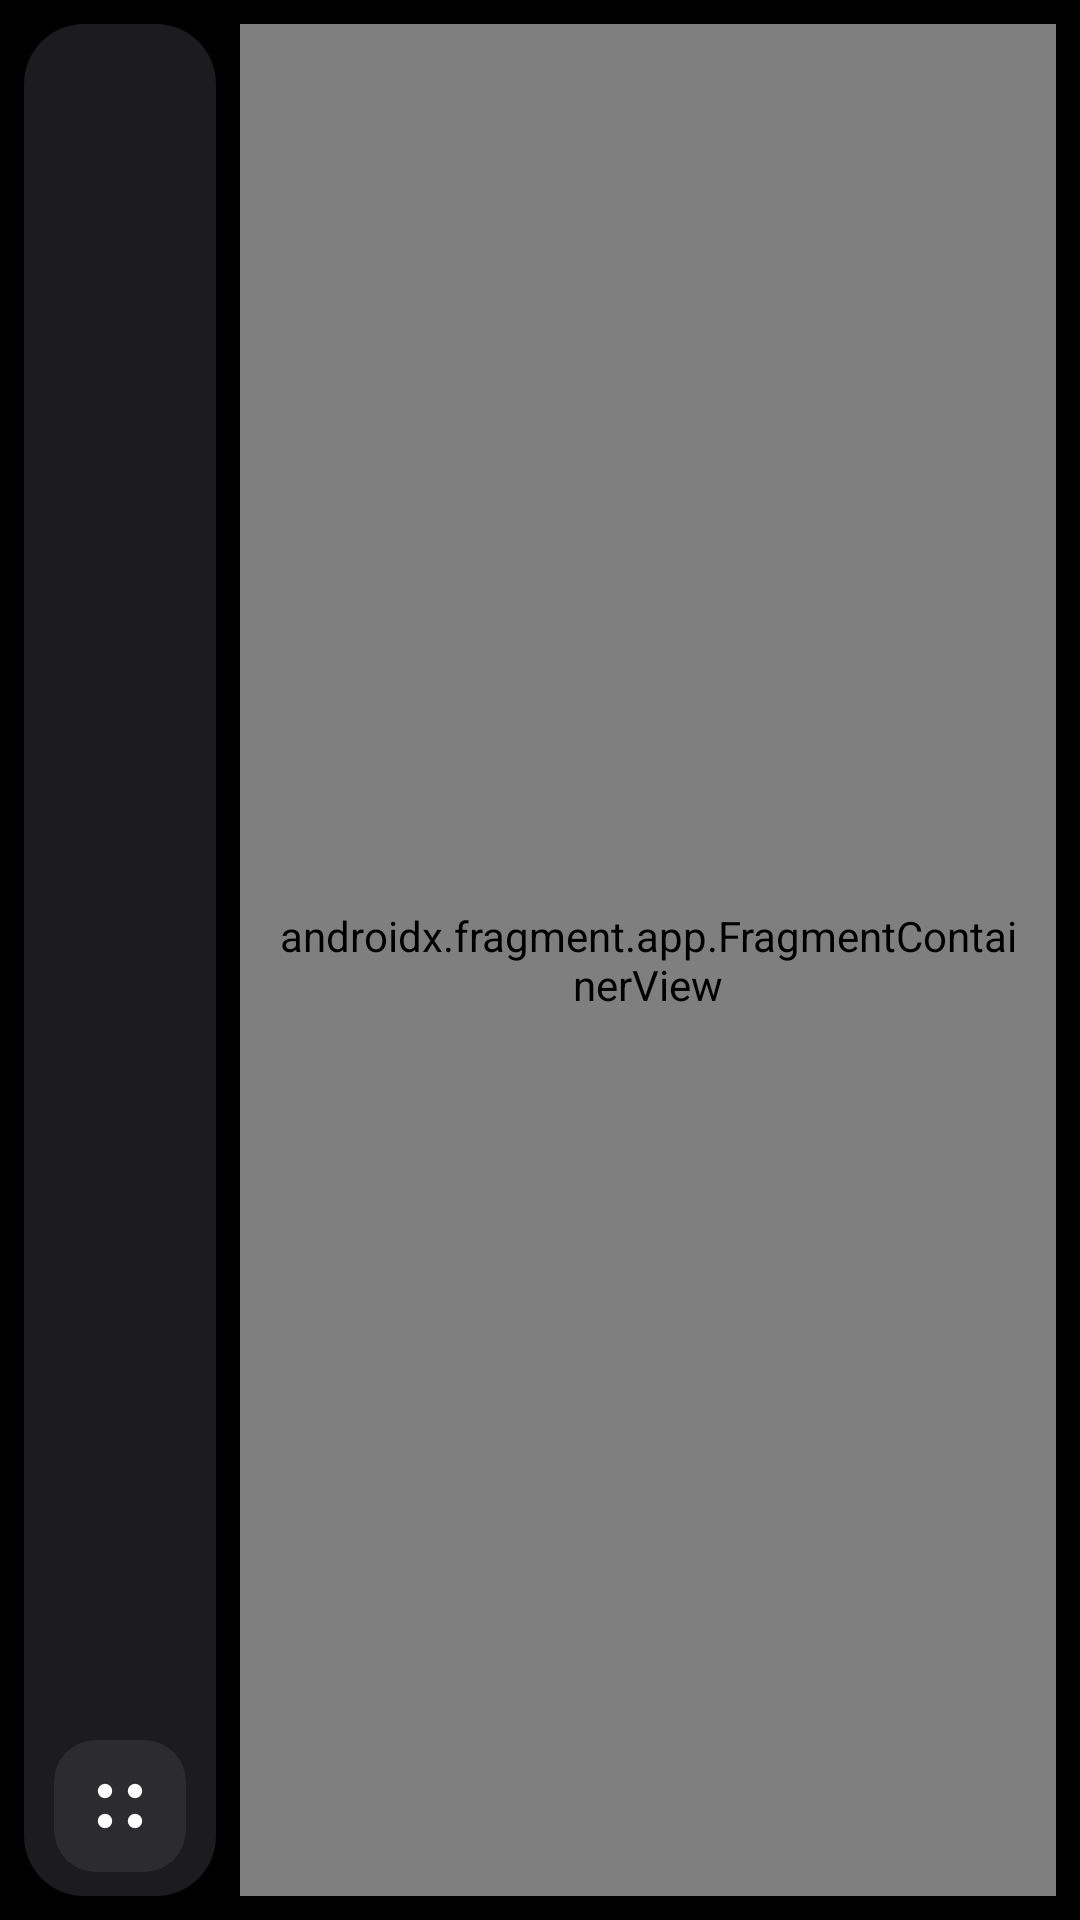

Point at icon controls on the screen. Image size 1080 x 1920, points as point (x, y).
Apps: point (120, 1806)
